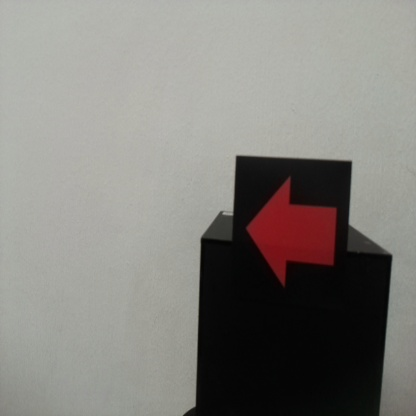id_4: (236, 157, 351, 320)
